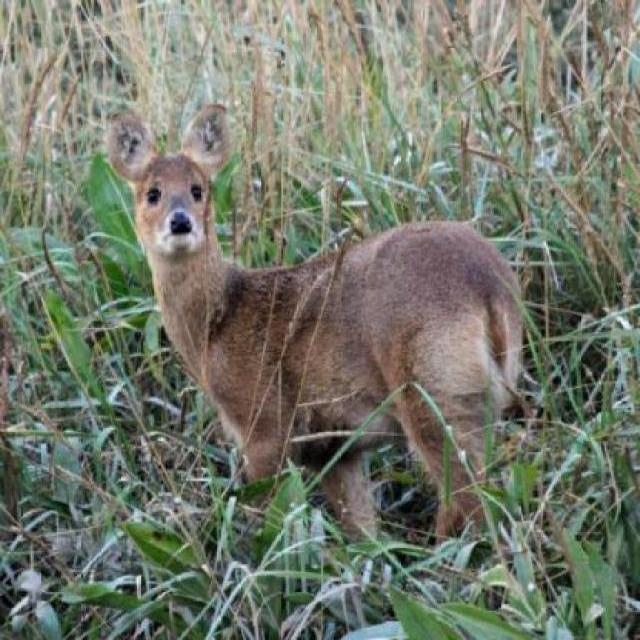deer: (99, 100, 532, 603)
